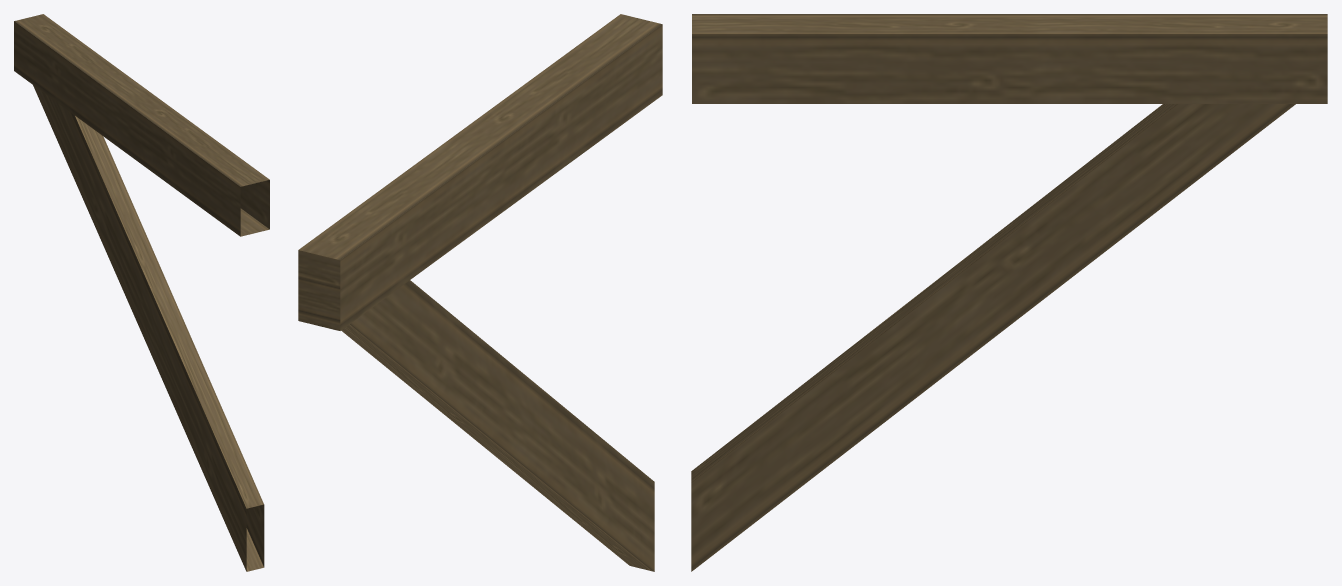
The model's file is Prop_d.fbx.
3 views of the same model, side by side, from view 1: azimuth 30°, elevation 25°; view 2: azimuth 150°, elevation 25°; view 3: azimuth 270°, elevation 25° (orthographic). The views are drawn at different scales.
Parts seen in each view (by area): view 1: Prop_d; view 2: Prop_d; view 3: Prop_d.
Part boxes in pixels (box(x1,y1,x2,y2)): Prop_d: box(14, 14, 269, 571); Prop_d: box(298, 14, 662, 571); Prop_d: box(691, 14, 1327, 571).
Bounding box in the file's own units: 9.05 × 113 × 121.
